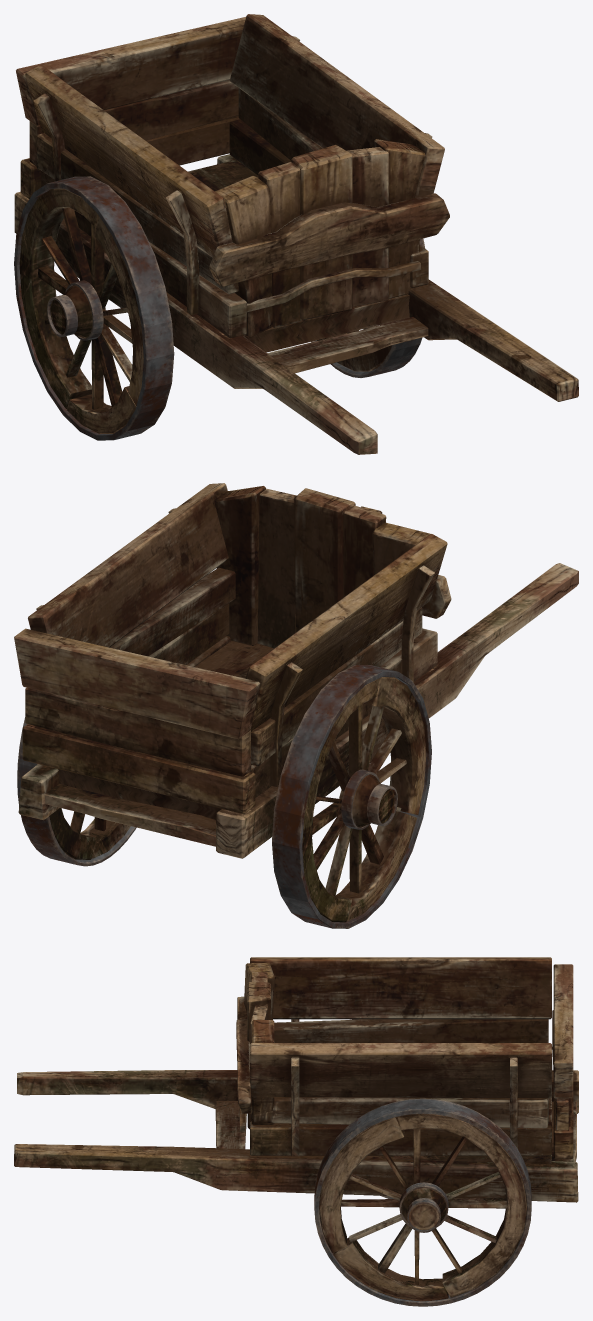
File: SM_Cart.fbx
The picture shows the model from 3 angles, top to bottom: view 1: azimuth 30°, elevation 25°; view 2: azimuth 150°, elevation 25°; view 3: azimuth 270°, elevation 25°; orthographic projection. The views are drawn at different scales.
Visible parts, largest first — view 1: SM_Cart_LOD0; view 2: SM_Cart_LOD0; view 3: SM_Cart_LOD0.
Boxes of the visible parts, x1,y1,x2,y2 form: SM_Cart_LOD0: (14,14,578,454); SM_Cart_LOD0: (14,483,578,928); SM_Cart_LOD0: (14,957,578,1306).
Bounding box in the file's own units: 277 × 501 × 255.
